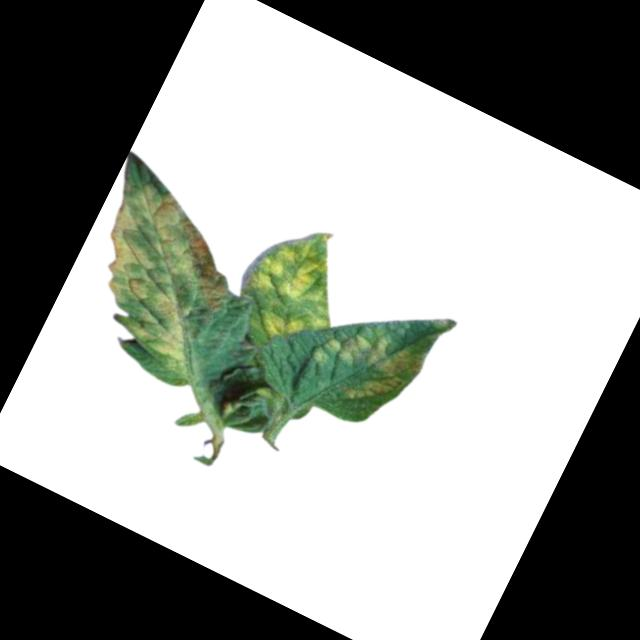Leaf_Mold: (54, 169, 259, 378), (225, 211, 363, 358), (304, 309, 429, 422)
